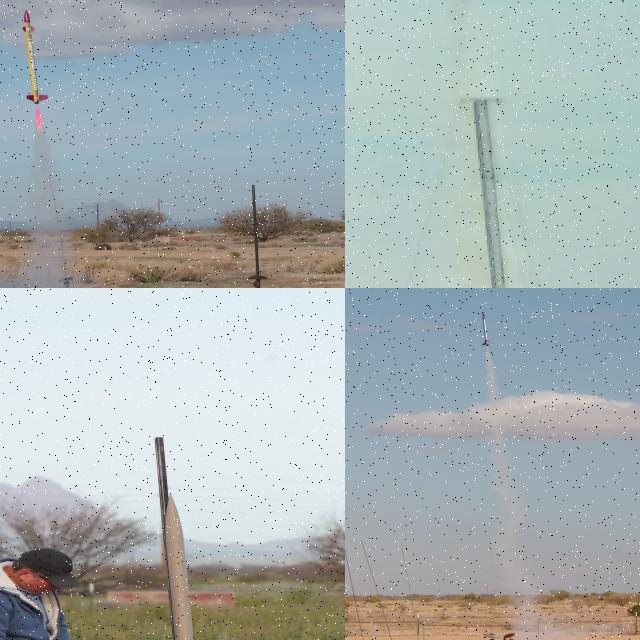Rocket: (155, 493, 214, 640), (22, 10, 49, 104), (480, 313, 492, 346)
